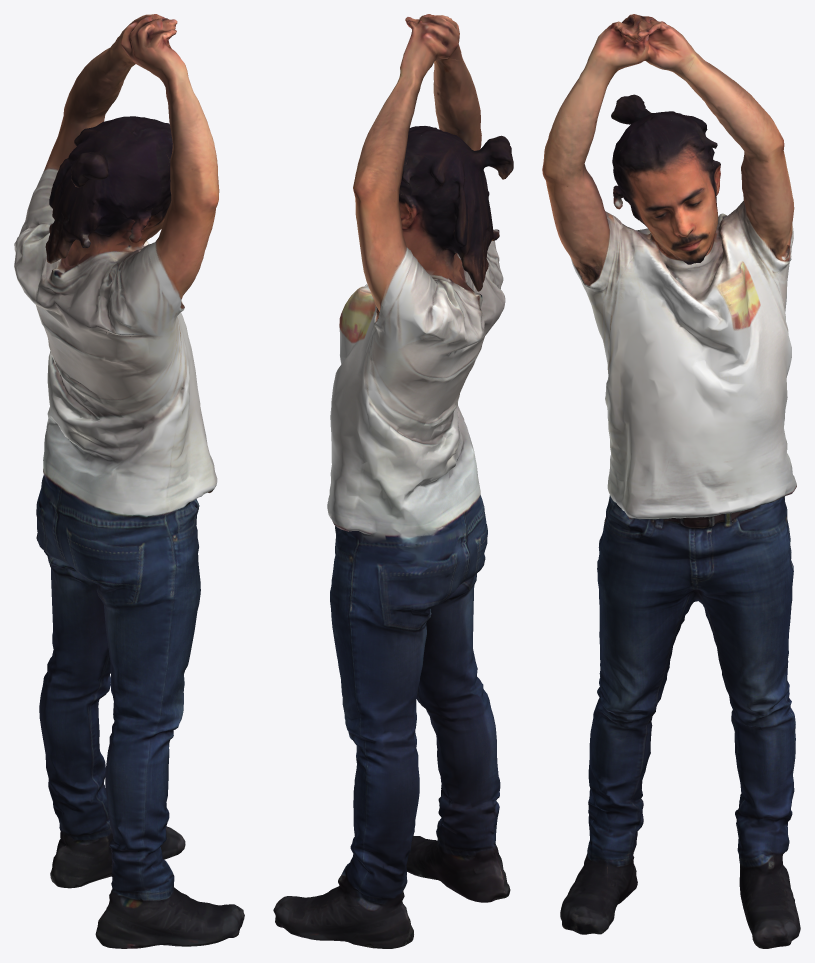
3 renders of one model, left to right at view 1: azimuth 30°, elevation 25°; view 2: azimuth 150°, elevation 25°; view 3: azimuth 270°, elevation 25°, orthographic. The views are drawn at different scales.
Parts seen in each view (by area): view 1: 7a92173_00670; view 2: 7a92173_00670; view 3: 7a92173_00670.
Part boxes in pixels (x1,y1,x2,y2): 7a92173_00670: (14,14,244,948); 7a92173_00670: (273,14,513,948); 7a92173_00670: (542,14,800,948).
Size of the model in its own units: 370 by 1778 by 468.
Materials: 1 (1 with a texture image).
